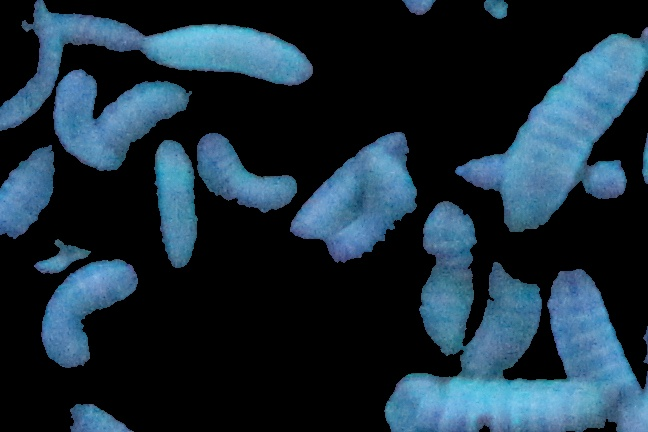larvae: (502, 30, 646, 229), (381, 374, 608, 432), (290, 132, 406, 236), (142, 26, 314, 87), (41, 259, 137, 366), (460, 259, 543, 377), (549, 266, 632, 380), (328, 157, 415, 261), (420, 199, 473, 358), (193, 134, 299, 210), (1, 4, 62, 129), (89, 81, 188, 149), (53, 72, 121, 168), (150, 140, 197, 269), (24, 11, 144, 53), (1, 143, 54, 238)
